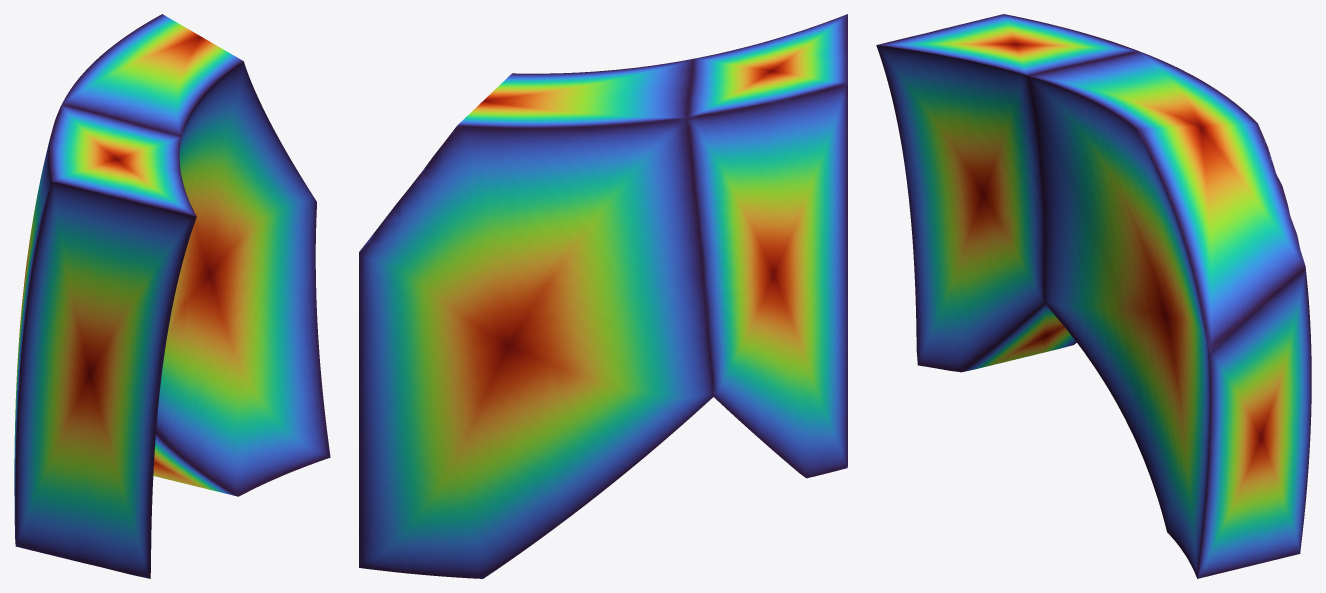
The model's file is gen1.glb.
3 renders of one model, left to right at view 1: azimuth 30°, elevation 25°; view 2: azimuth 150°, elevation 25°; view 3: azimuth 270°, elevation 25°, orthographic. The views are drawn at different scales.
Visible parts, largest first — view 1: Node; view 2: Node; view 3: Node.
Part boxes in pixels (x1=…): Node: x1=14, y1=14, x2=330, y2=578; Node: x1=359, y1=14, x2=847, y2=578; Node: x1=876, y1=14, x2=1311, y2=578.
Size of the model in its own units: 70.72 by 75 by 74.39.
1 material, 1 textured.
